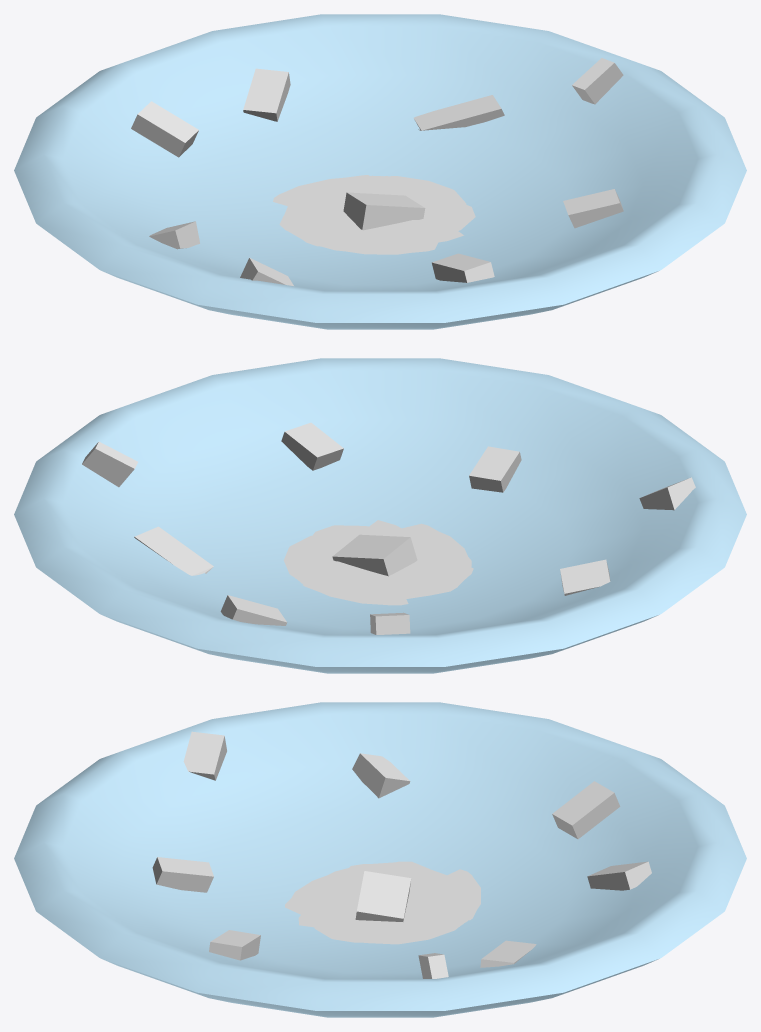
File: Plate2.fbx
3 views of the same model, one above another, from view 1: azimuth 30°, elevation 25°; view 2: azimuth 150°, elevation 25°; view 3: azimuth 270°, elevation 25° (orthographic).
Visible parts, largest first — view 1: Environment_Plate, Dirt; view 2: Environment_Plate, Dirt; view 3: Environment_Plate, Dirt.
Part boxes in pixels (x1=…): Environment_Plate: x1=14, y1=14, x2=746, y2=329; Dirt: x1=131, y1=58, x2=623, y2=285; Environment_Plate: x1=14, y1=358, x2=746, y2=673; Dirt: x1=82, y1=422, x2=695, y2=634; Environment_Plate: x1=14, y1=702, x2=746, y2=1017; Dirt: x1=152, y1=731, x2=651, y2=978.
Size of the model in its own units: 100 by 16.52 by 102.
